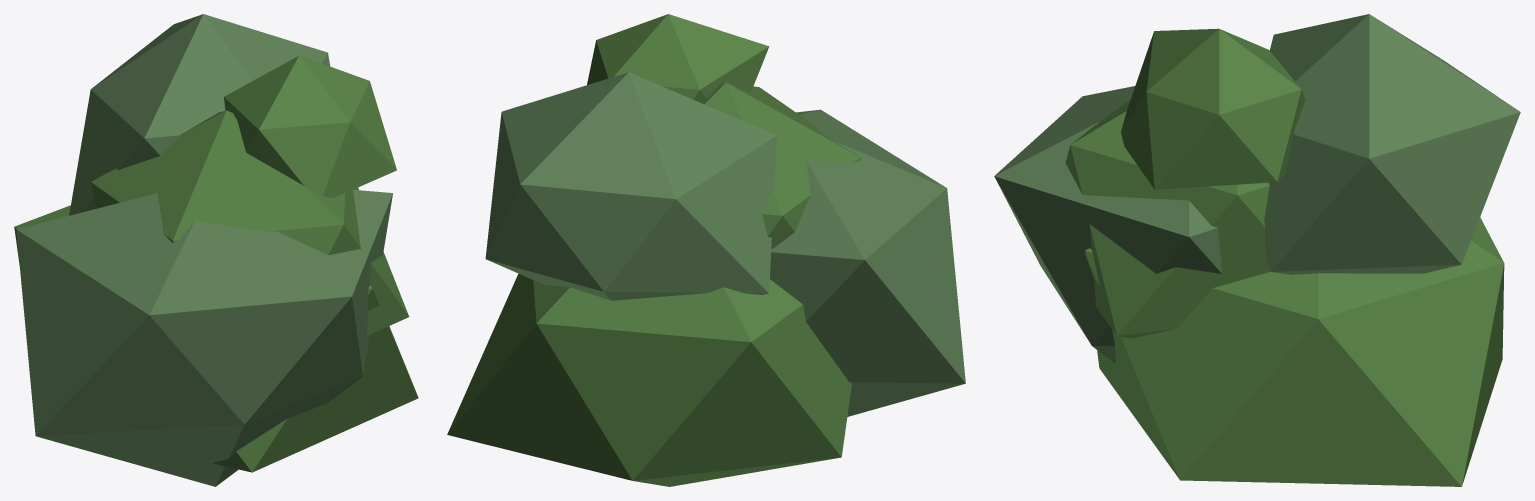
3 views of the same model, side by side, from view 1: azimuth 30°, elevation 25°; view 2: azimuth 150°, elevation 25°; view 3: azimuth 270°, elevation 25° (orthographic). The views are drawn at different scales.
Visible parts, largest first — view 1: en_3; view 2: en_3; view 3: en_3.
Part boxes in pixels (left/top/right/bottom): en_3: left=14, top=14, right=418, bottom=486; en_3: left=447, top=14, right=965, bottom=486; en_3: left=994, top=14, right=1520, bottom=486.
Bounding box in the file's own units: 1.36 × 1.41 × 1.45.
